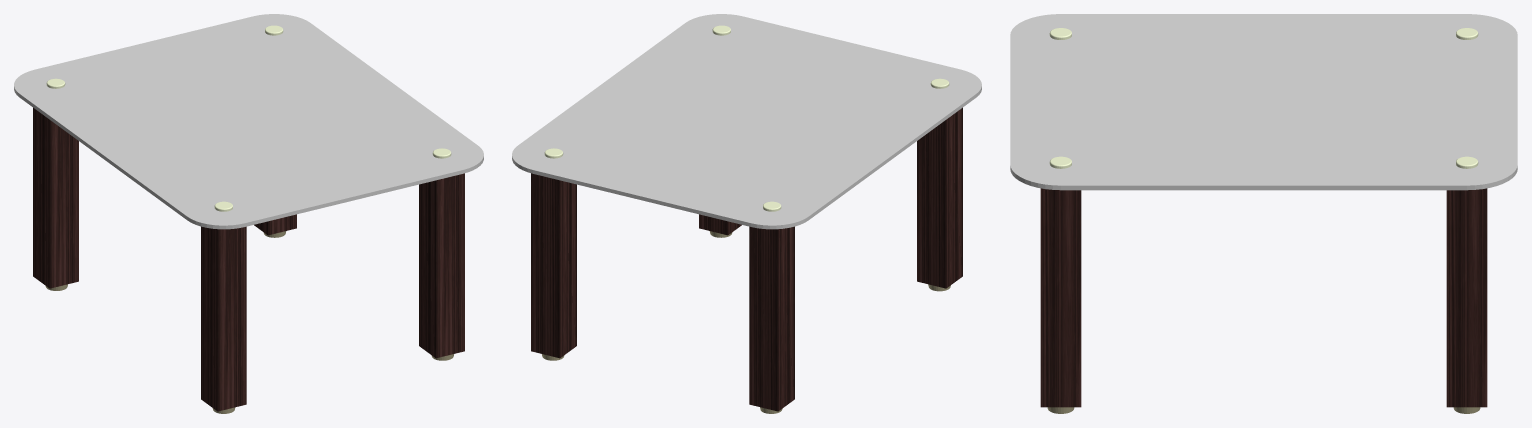
Rendered from coffee-table.c6494cd9.glb.
3 renders of one model, left to right at view 1: azimuth 30°, elevation 25°; view 2: azimuth 150°, elevation 25°; view 3: azimuth 270°, elevation 25°, orthographic. The views are drawn at different scales.
Parts seen in each view (by area): view 1: GlassTop, Legs, Bolt; view 2: GlassTop, Legs, Bolt; view 3: GlassTop, Legs, Bolt.
Part boxes in pixels (x1=…): GlassTop: x1=14, y1=14, x2=483, y2=229; Legs: x1=33, y1=107, x2=464, y2=411; Bolt: x1=46, y1=25, x2=451, y2=211; GlassTop: x1=512, y1=14, x2=981, y2=229; Legs: x1=531, y1=107, x2=962, y2=411; Bolt: x1=544, y1=25, x2=949, y2=211; GlassTop: x1=1010, y1=14, x2=1517, y2=190; Legs: x1=1040, y1=188, x2=1487, y2=407; Bolt: x1=1049, y1=28, x2=1478, y2=168.
Bounding box in the file's own units: 0.8 × 0.5369 × 1.
4 materials, 1 textured.
